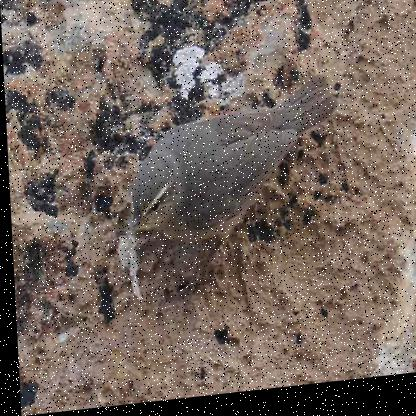Burung: (103, 77, 342, 308)
